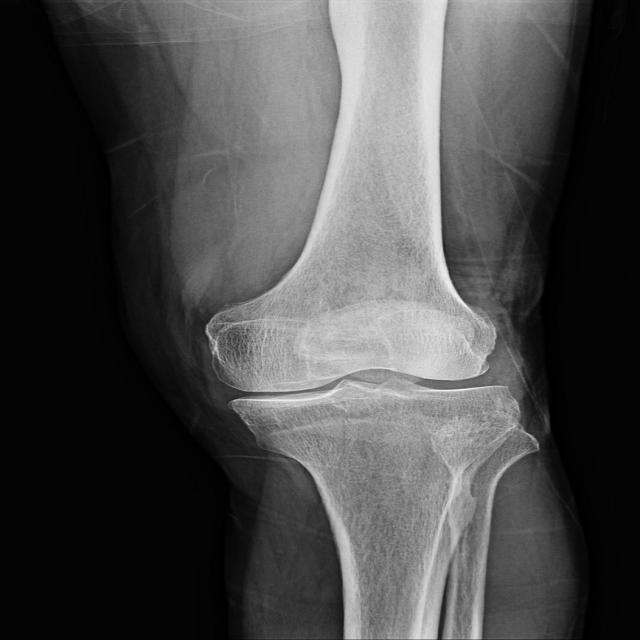osteo: (195, 296, 531, 430)
